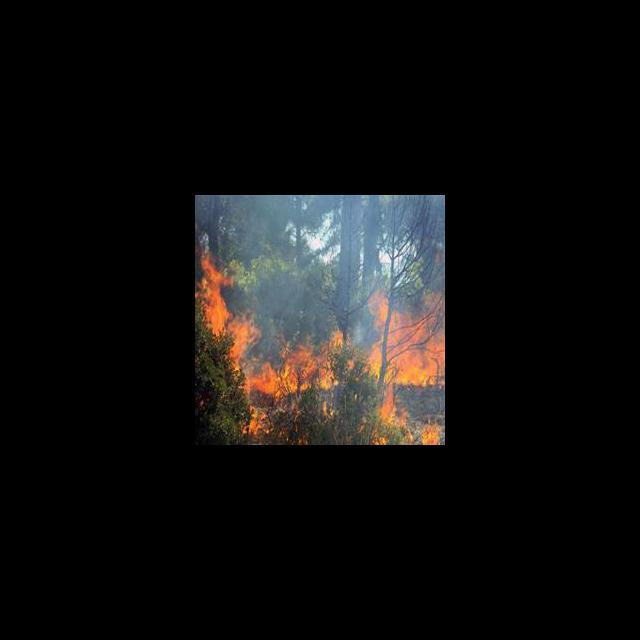Fire: (200, 236, 445, 444)
